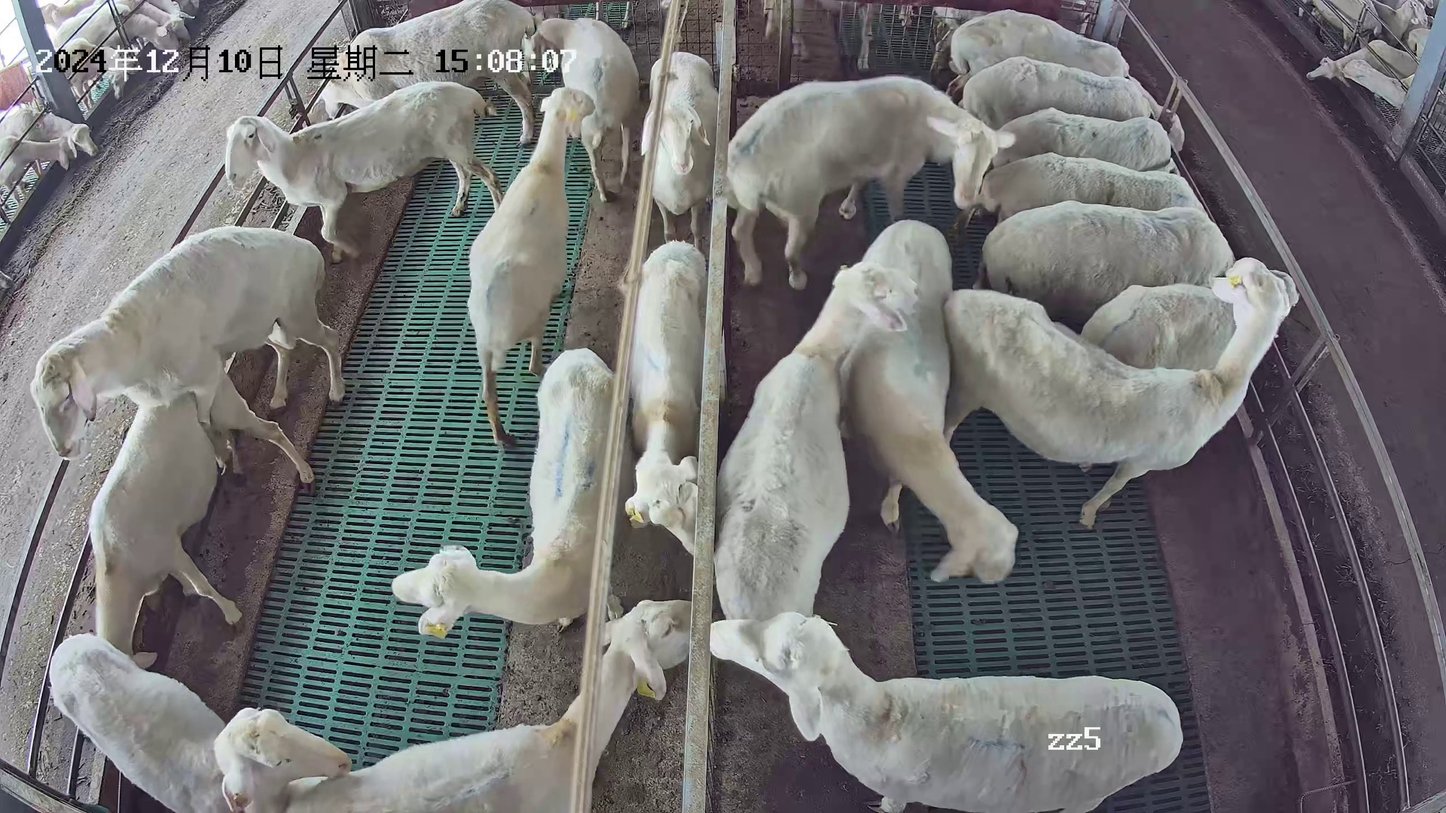Smounting: (27, 222, 351, 672)
mounted: (85, 362, 317, 668)
